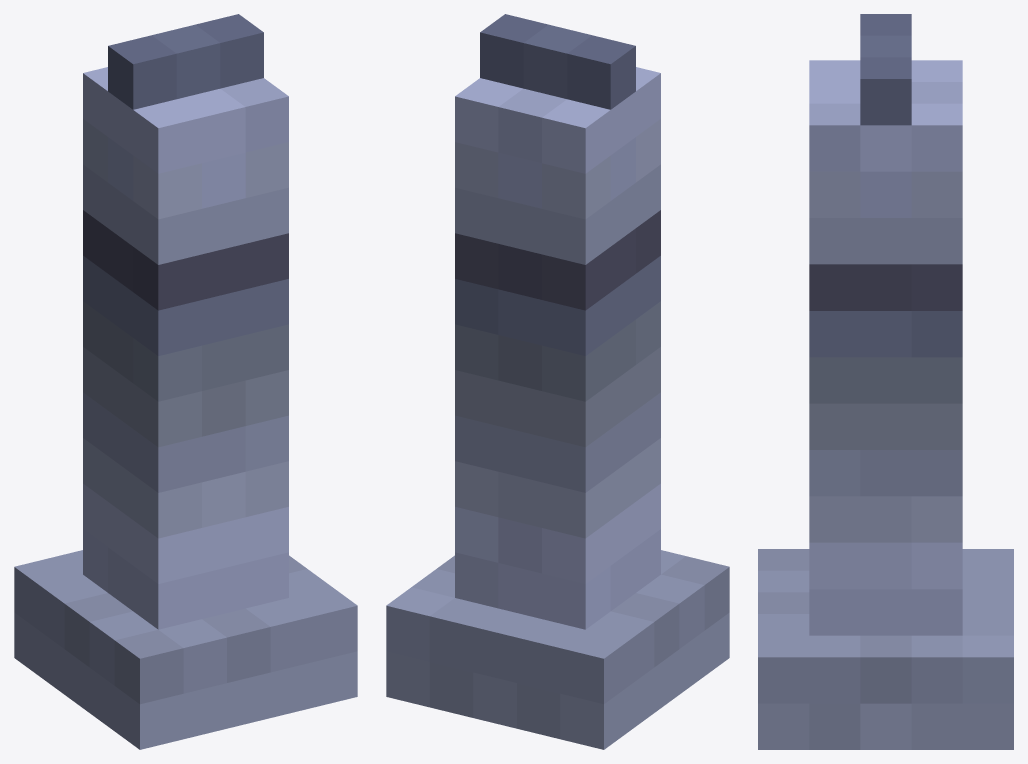
The model's file is cross-column.glb.
The picture shows the model from 3 angles, left to right: view 1: azimuth 30°, elevation 25°; view 2: azimuth 150°, elevation 25°; view 3: azimuth 270°, elevation 25°; orthographic projection.
Parts seen in each view (by area): view 1: cross-column; view 2: cross-column; view 3: cross-column.
Part boxes in pixels (bbox=[...]): cross-column: bbox=[14, 14, 357, 749]; cross-column: bbox=[386, 14, 729, 749]; cross-column: bbox=[758, 14, 1013, 749].
Bounding box in the file's own units: 0.517 × 1.45 × 0.517.
1 material, 1 textured.
